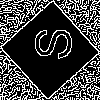S: (25, 25, 73, 61)
